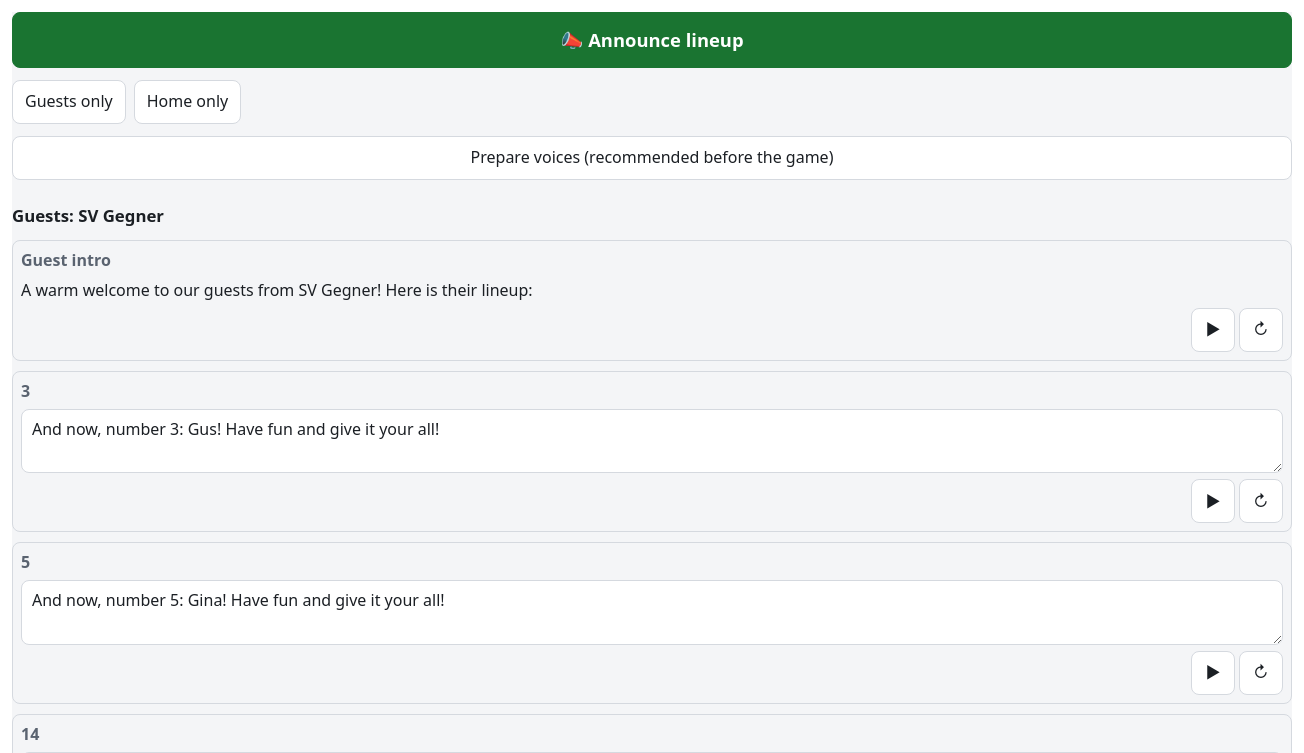
Test: guest team announcements › Prepare voices covers both teams and Ready badges appear on guest rows
Click the button "Prepare voices (recommended before the game)": (652, 158) [12,136,1292,180]
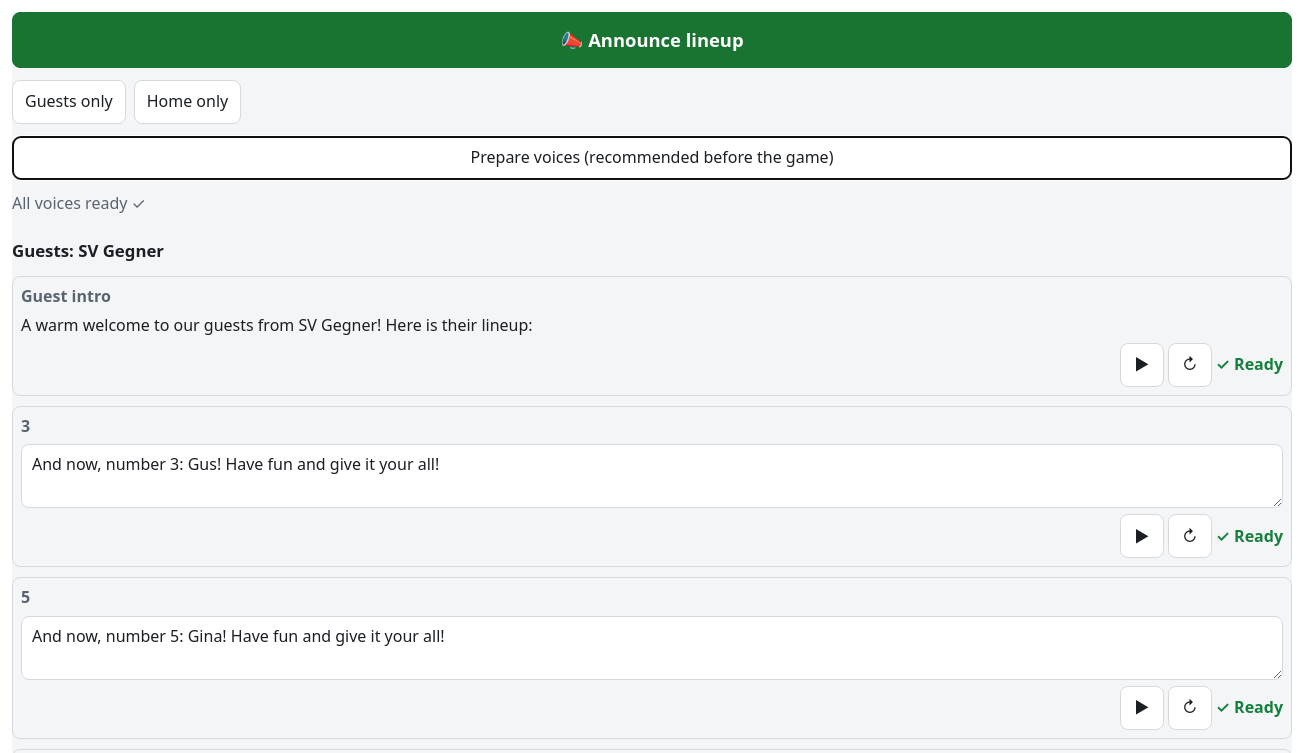
Result: the text "All voices ready ✓" is shown at [12,192,146,214]
Result: the text "Ready" is shown 8 times
